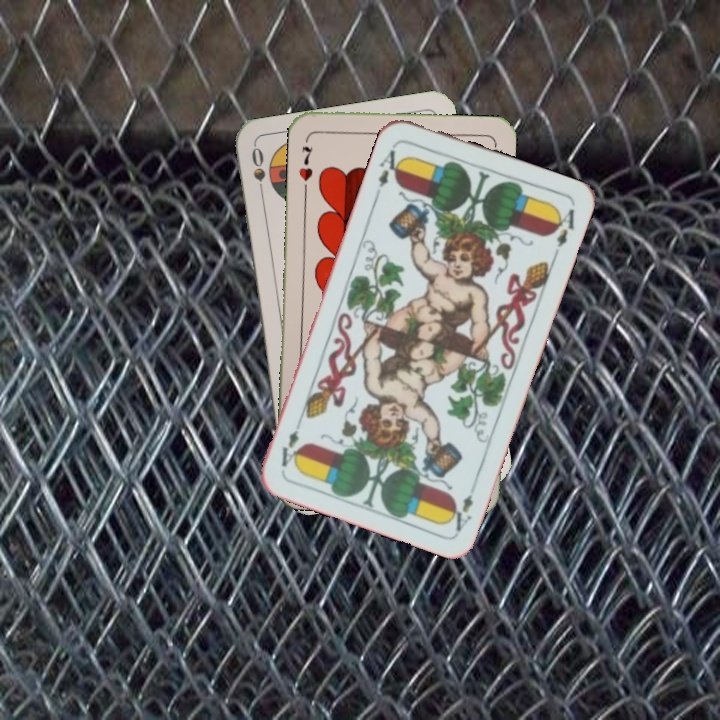EA: (373, 141, 406, 198), (445, 490, 476, 534)
H7: (295, 142, 316, 183)
SO: (247, 143, 268, 202)
